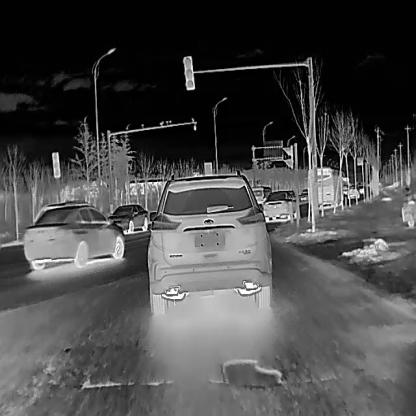bus: (306, 166, 341, 207)
car: (146, 168, 272, 315), (21, 199, 125, 271), (262, 189, 300, 222), (105, 204, 148, 233), (250, 184, 271, 202), (347, 184, 360, 198), (300, 188, 308, 202), (358, 184, 365, 194), (342, 184, 348, 195)
